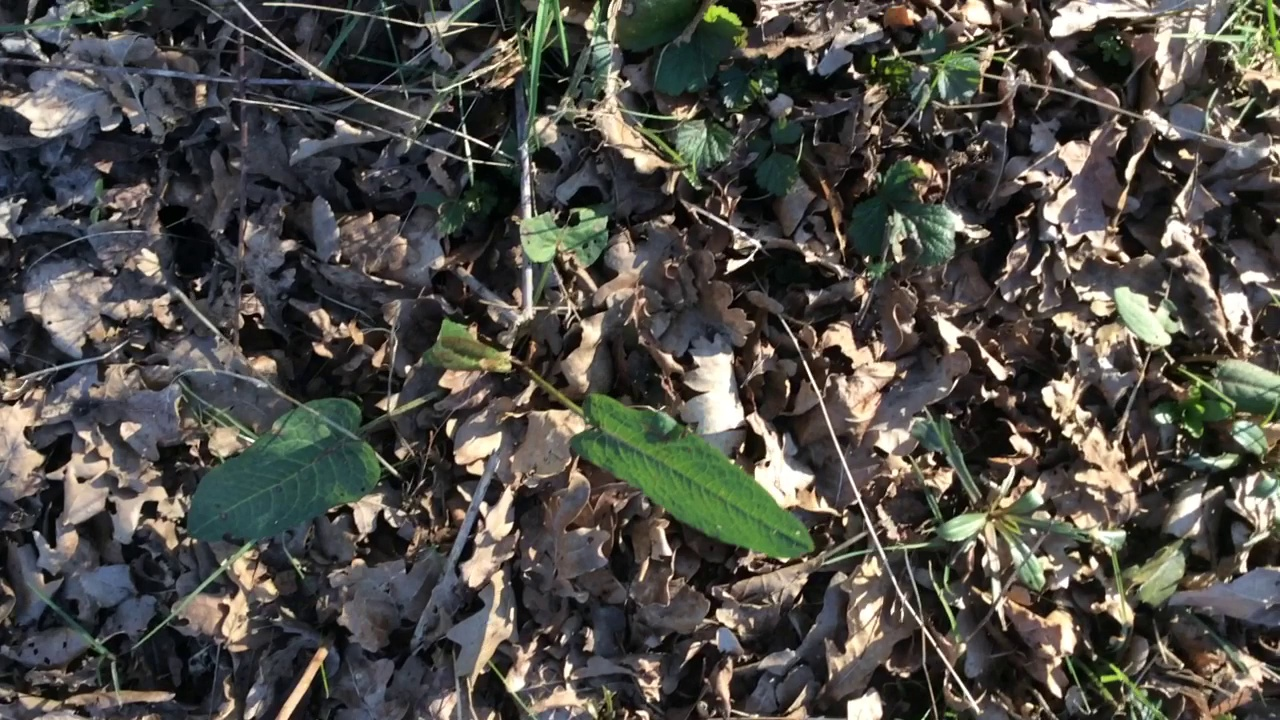rumex: (186, 205, 813, 559)
